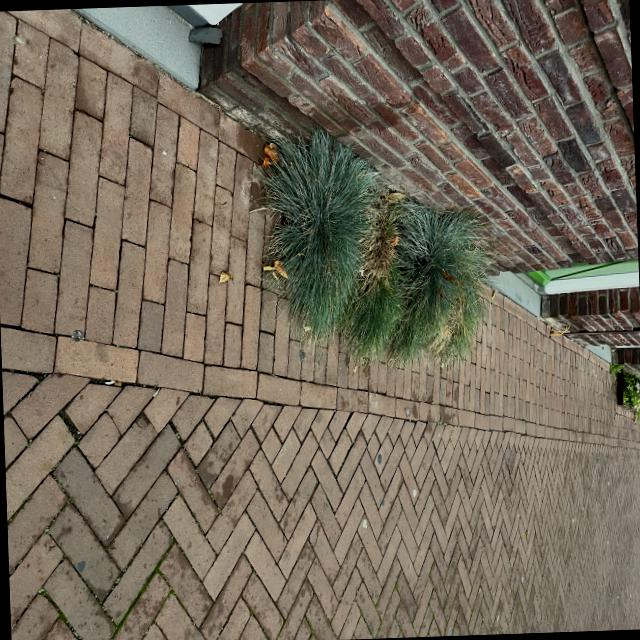pavement: (226, 0, 640, 640)
plants: (264, 201, 440, 499)
